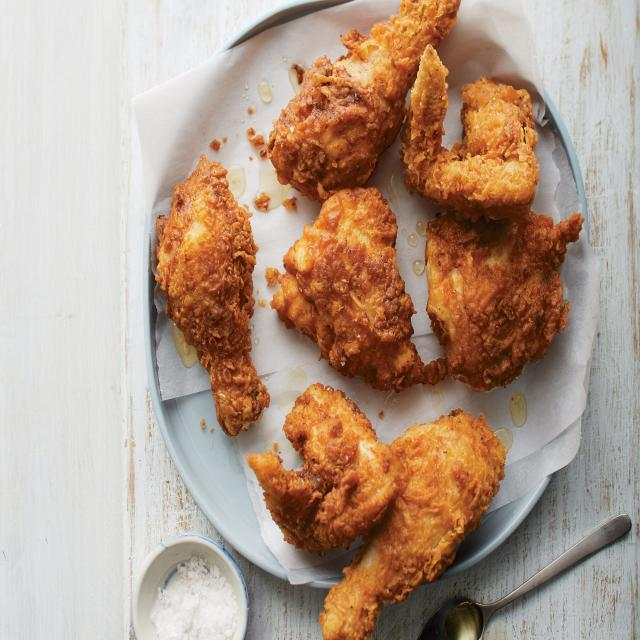Frango: (155, 0, 588, 640)
